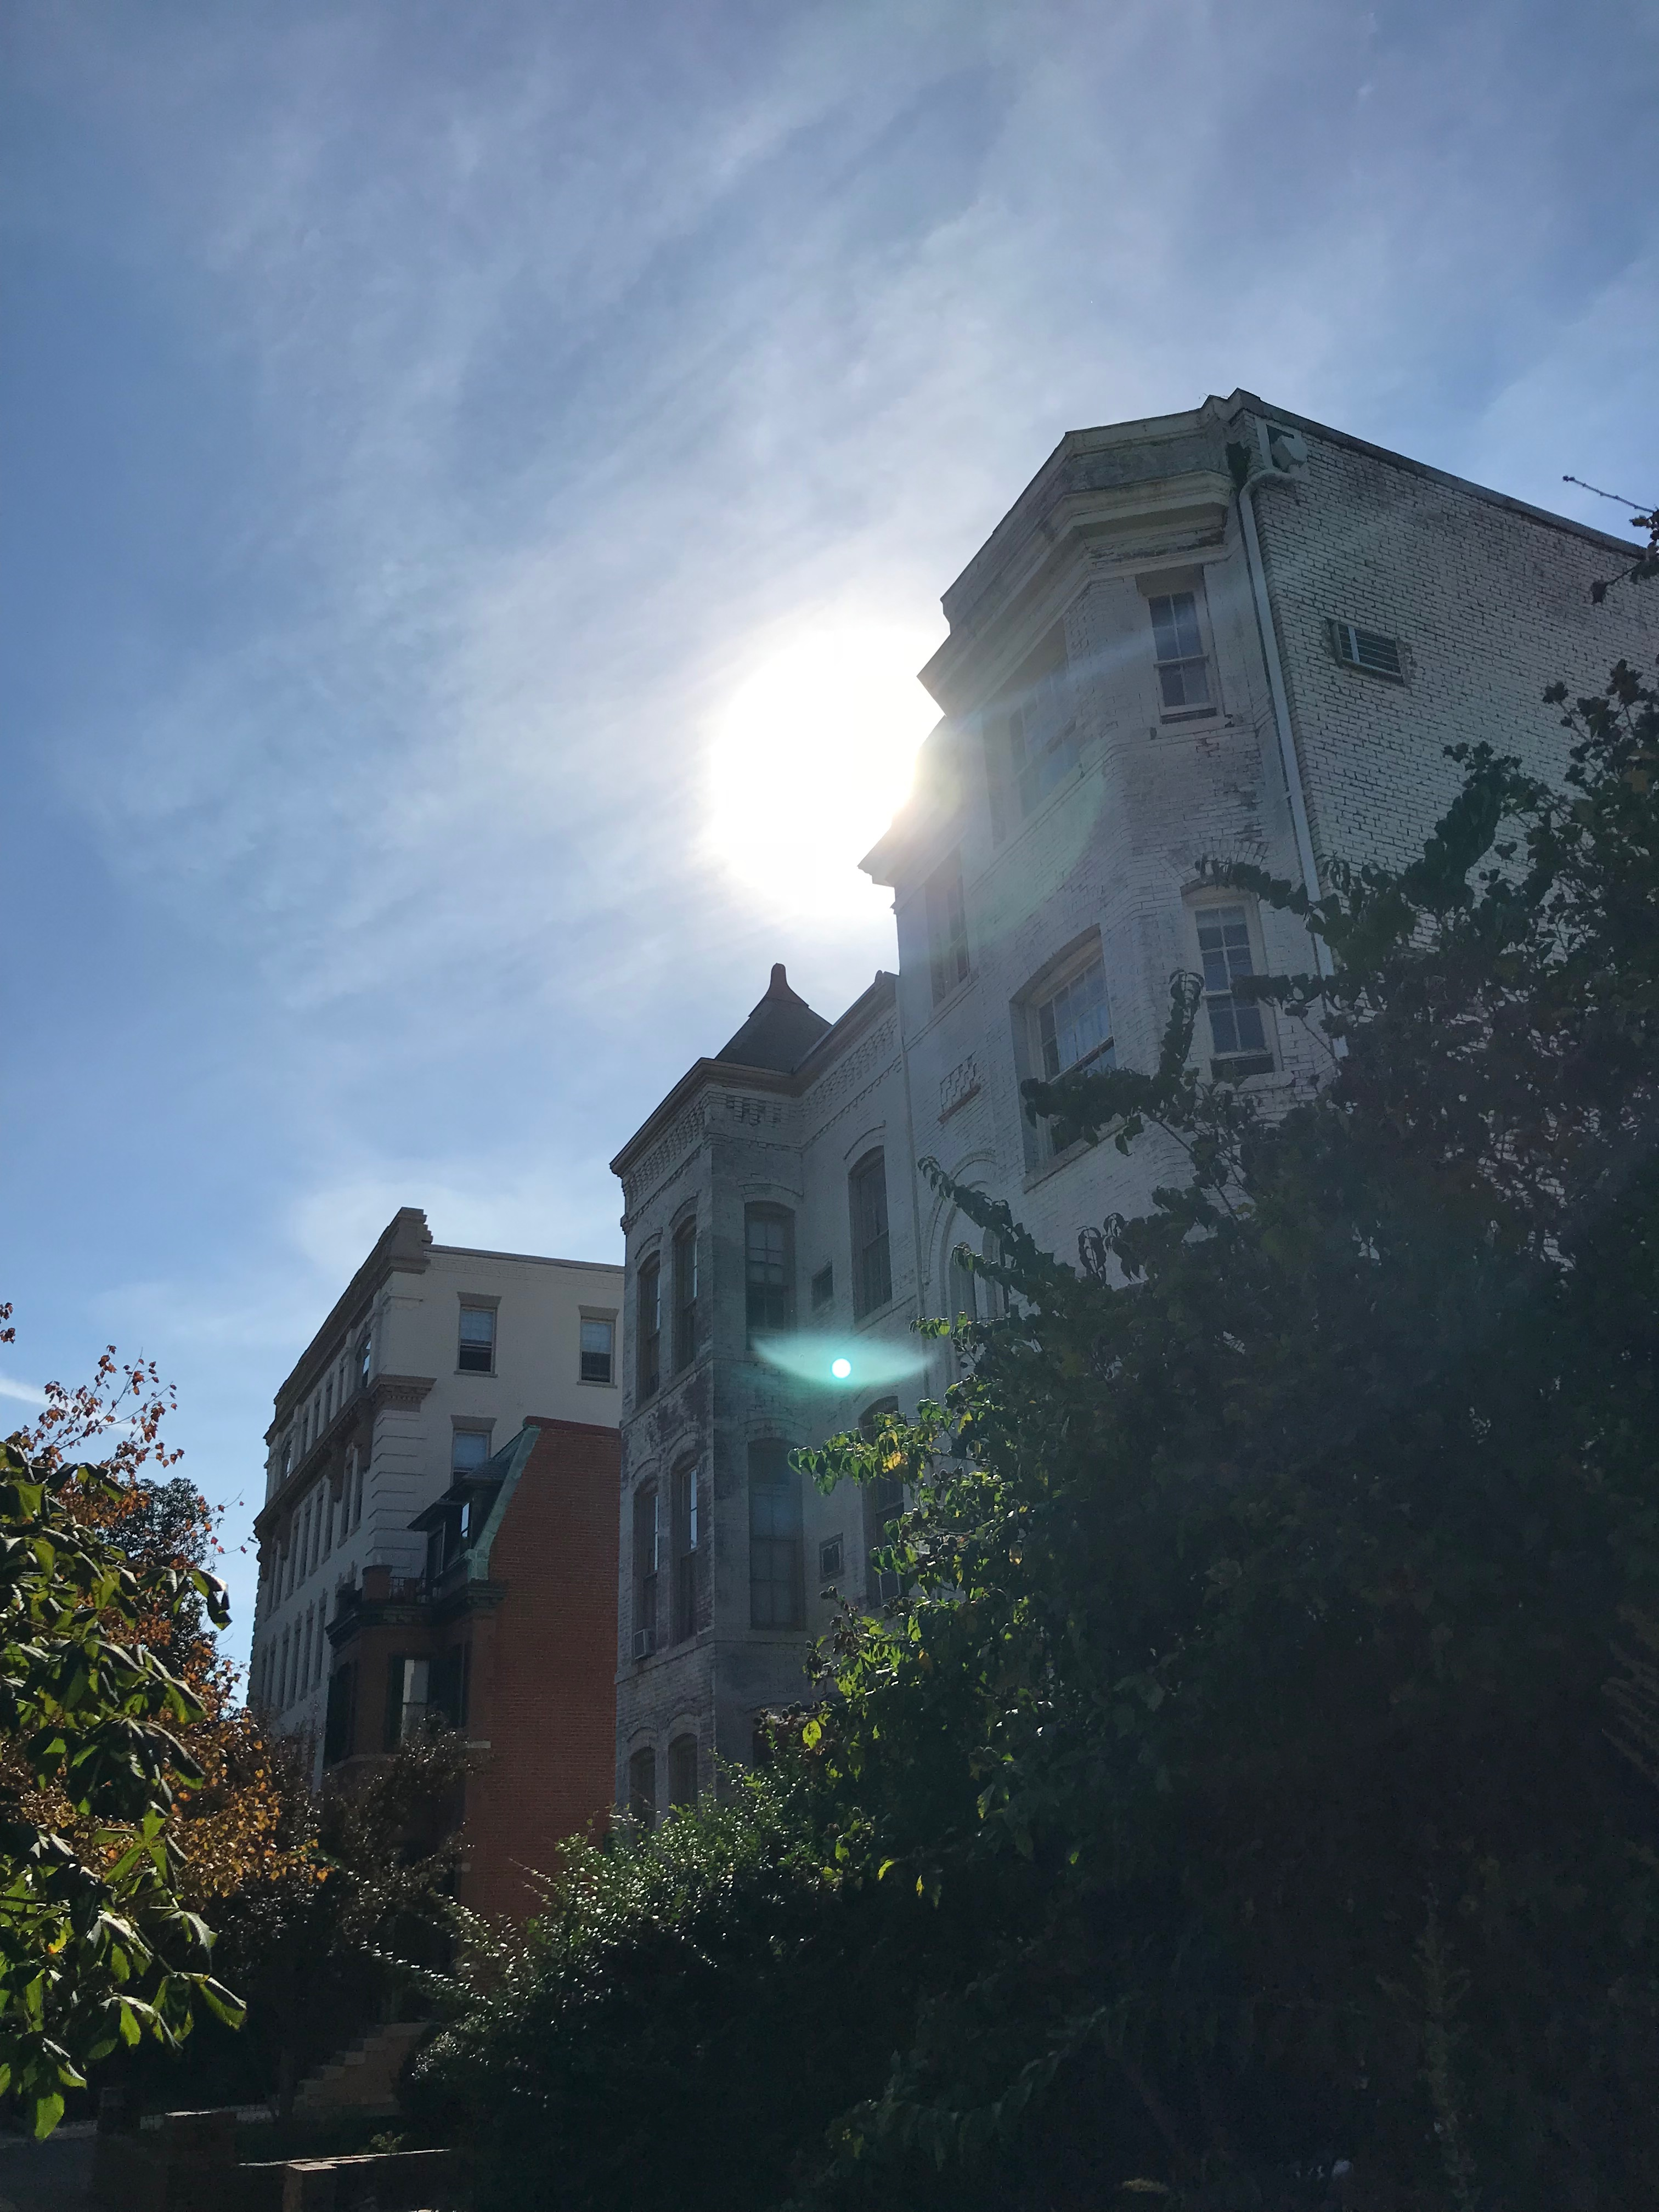flare: (828, 1357, 856, 1381)
